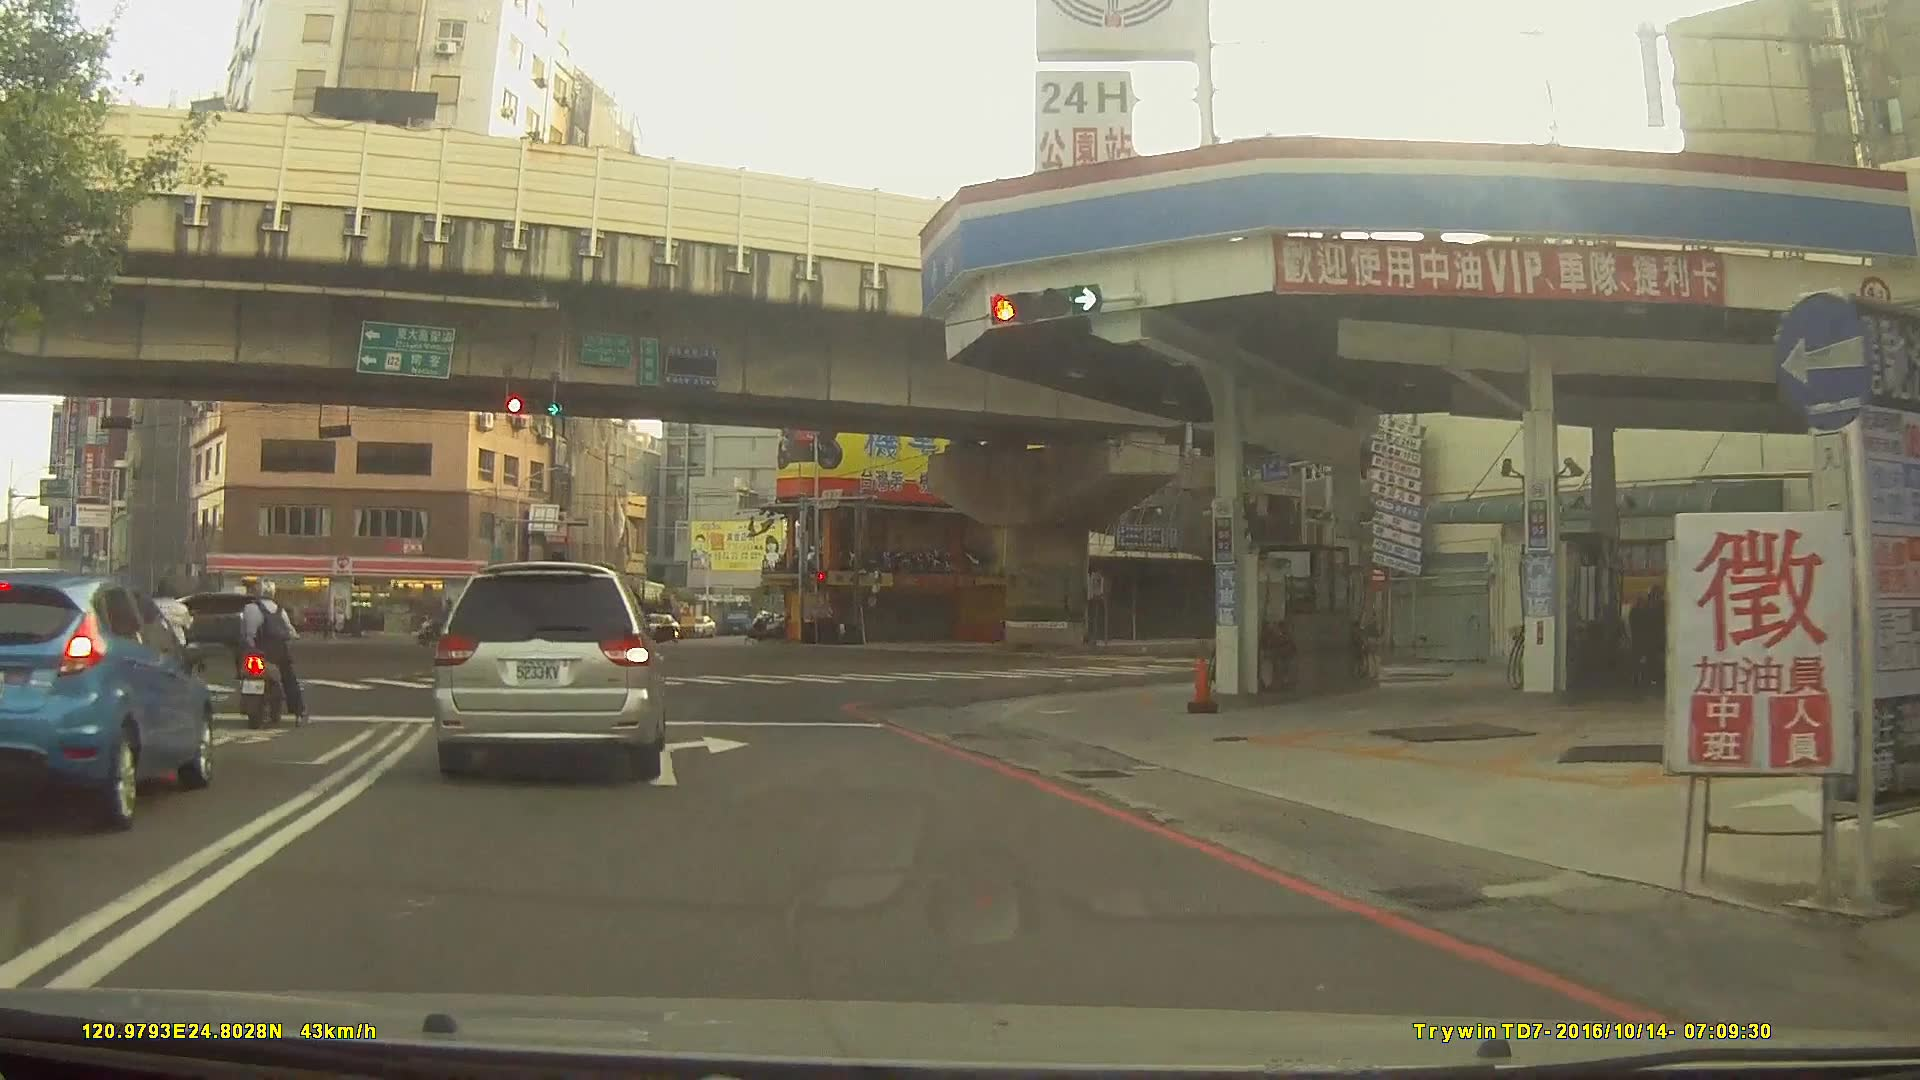rider: (235, 576, 303, 735), (135, 577, 199, 727)
vehicle: (0, 564, 211, 831), (429, 559, 668, 780), (114, 588, 265, 644), (543, 606, 605, 633)
